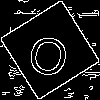O: (25, 25, 74, 79)
